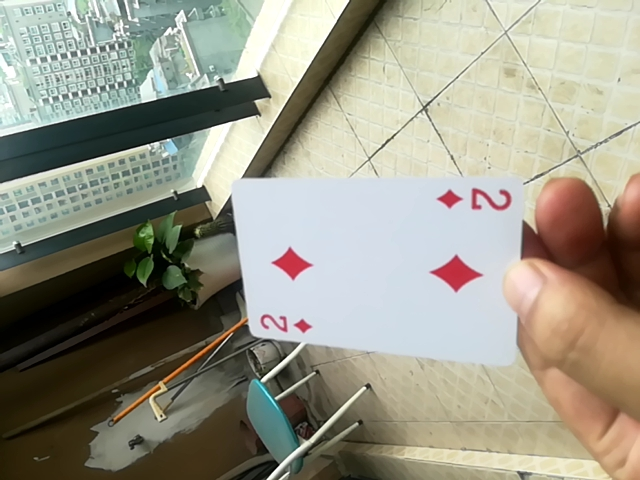fk 2: (226, 172, 536, 370)
